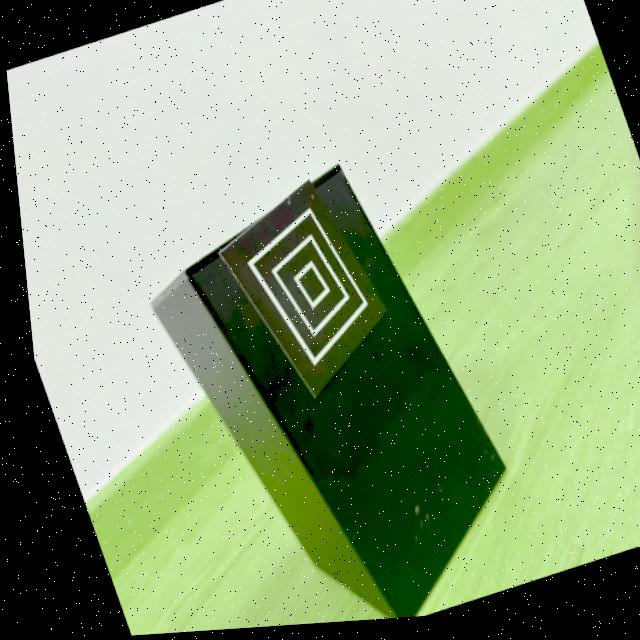BULLSEYE: (212, 182, 384, 402)
